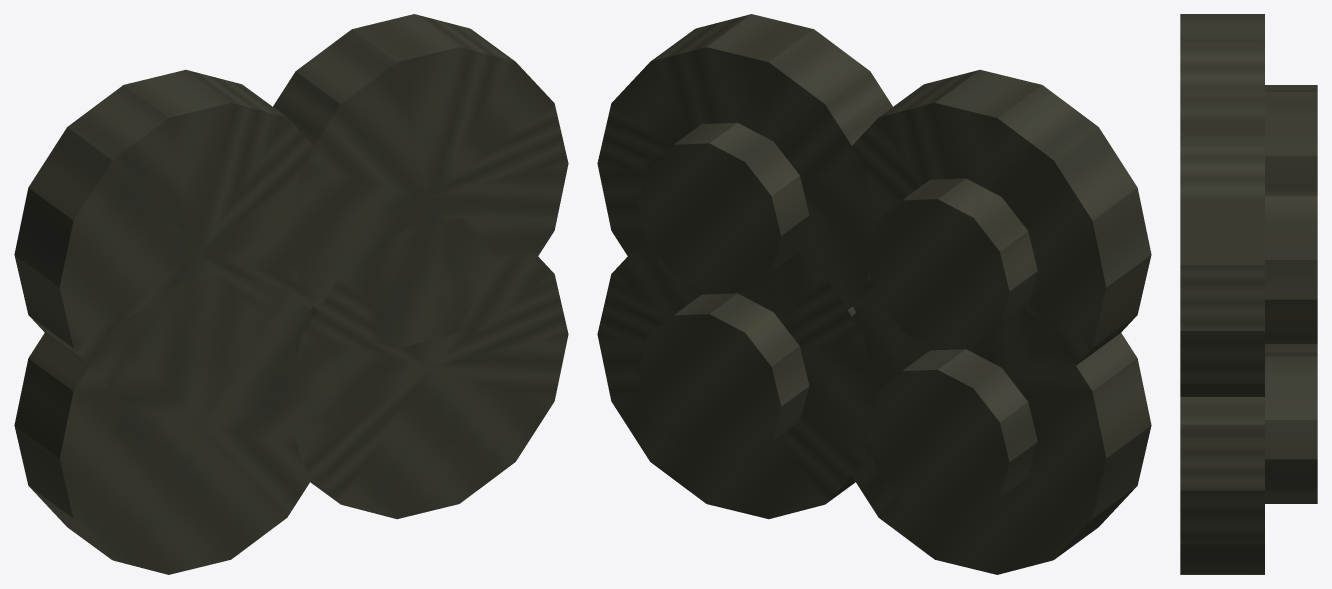
File: prop_tire_stack_highway_a.glb
The picture shows the model from 3 angles, left to right: view 1: azimuth 30°, elevation 25°; view 2: azimuth 150°, elevation 25°; view 3: azimuth 270°, elevation 25°; orthographic projection. The views are drawn at different scales.
Visible parts, largest first — view 1: prop_tire_stack_highway_a; view 2: prop_tire_stack_highway_a; view 3: prop_tire_stack_highway_a.
Boxes of the visible parts, x1=… form: prop_tire_stack_highway_a: x1=14, y1=14, x2=568, y2=574; prop_tire_stack_highway_a: x1=597, y1=14, x2=1151, y2=574; prop_tire_stack_highway_a: x1=1180, y1=14, x2=1317, y2=574.
Bounding box in the file's own units: 1.56 × 1.34 × 0.39.
Materials: 1 (1 with a texture image).
